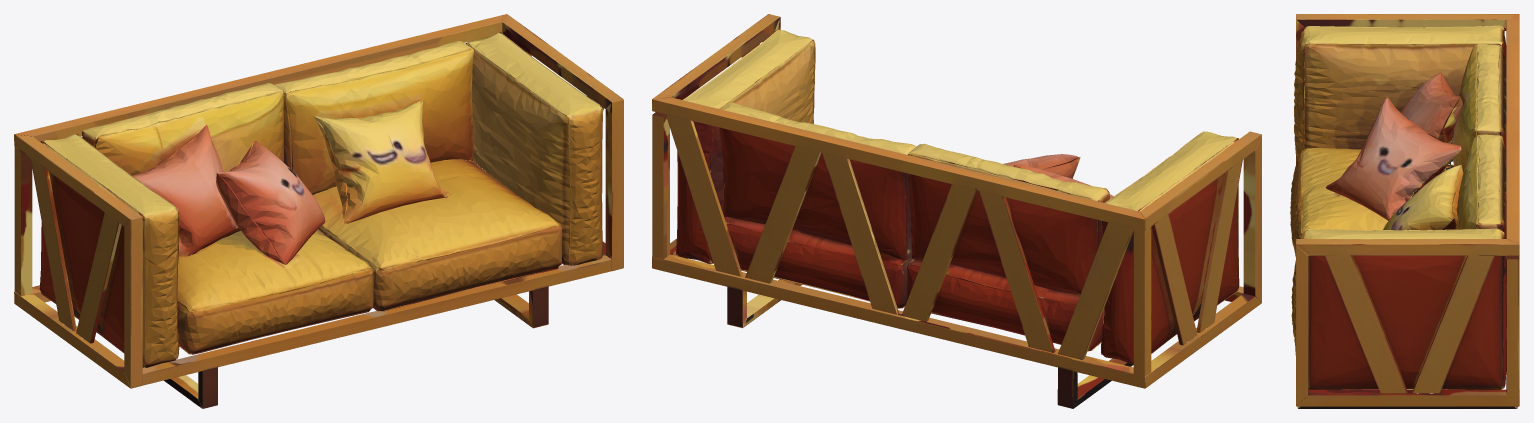
The model's file is edited_mesh.glb.
3 renders of one model, left to right at view 1: azimuth 30°, elevation 25°; view 2: azimuth 150°, elevation 25°; view 3: azimuth 270°, elevation 25°, orthographic. The views are drawn at different scales.
Parts seen in each view (by area): view 1: solid_001_wire; view 2: solid_001_wire; view 3: solid_001_wire.
Boxes of the visible parts, bbox=[...] form: solid_001_wire: bbox=[14, 14, 623, 408]; solid_001_wire: bbox=[652, 14, 1261, 408]; solid_001_wire: bbox=[1290, 14, 1519, 408].
Size of the model in its own units: 2 by 0.8164 by 0.8409.
Materials: 1 (1 with a texture image).
